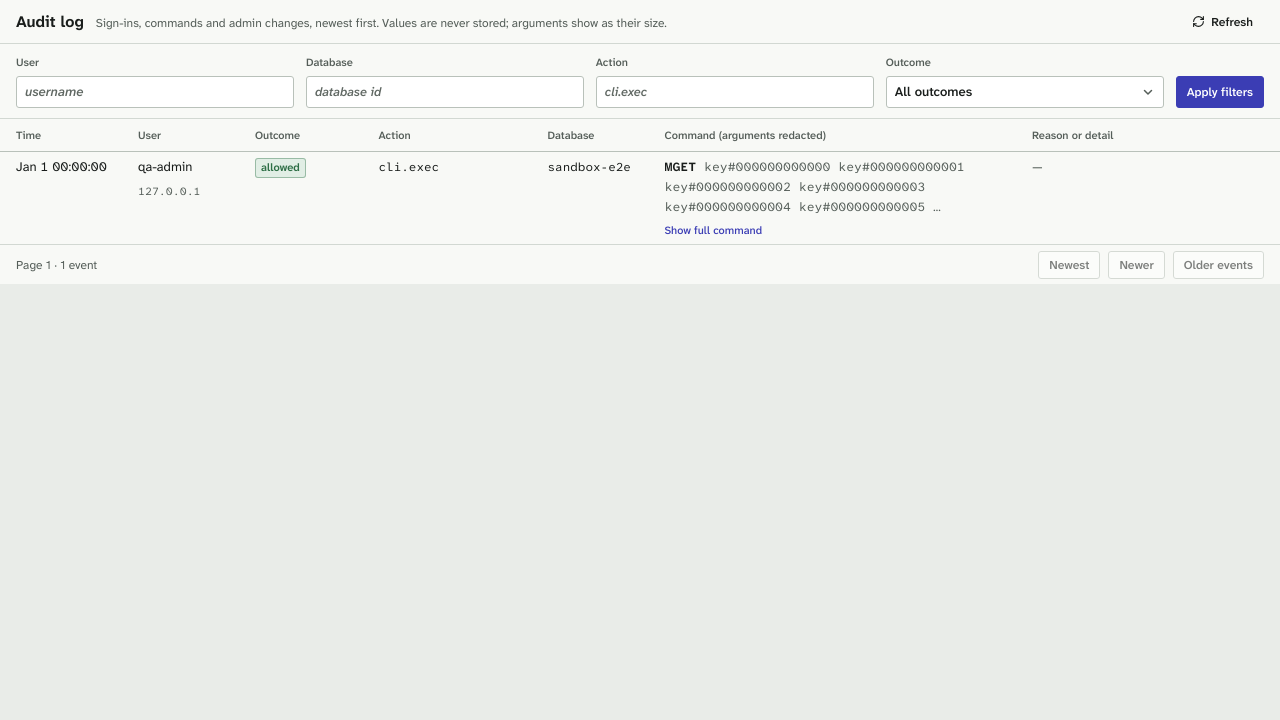
Test case: expands a long redacted command without replacing or losing its arguments
Step 1. Click the button "Show full command" → [713, 230], box [664, 221, 762, 239]
(page scrolled)
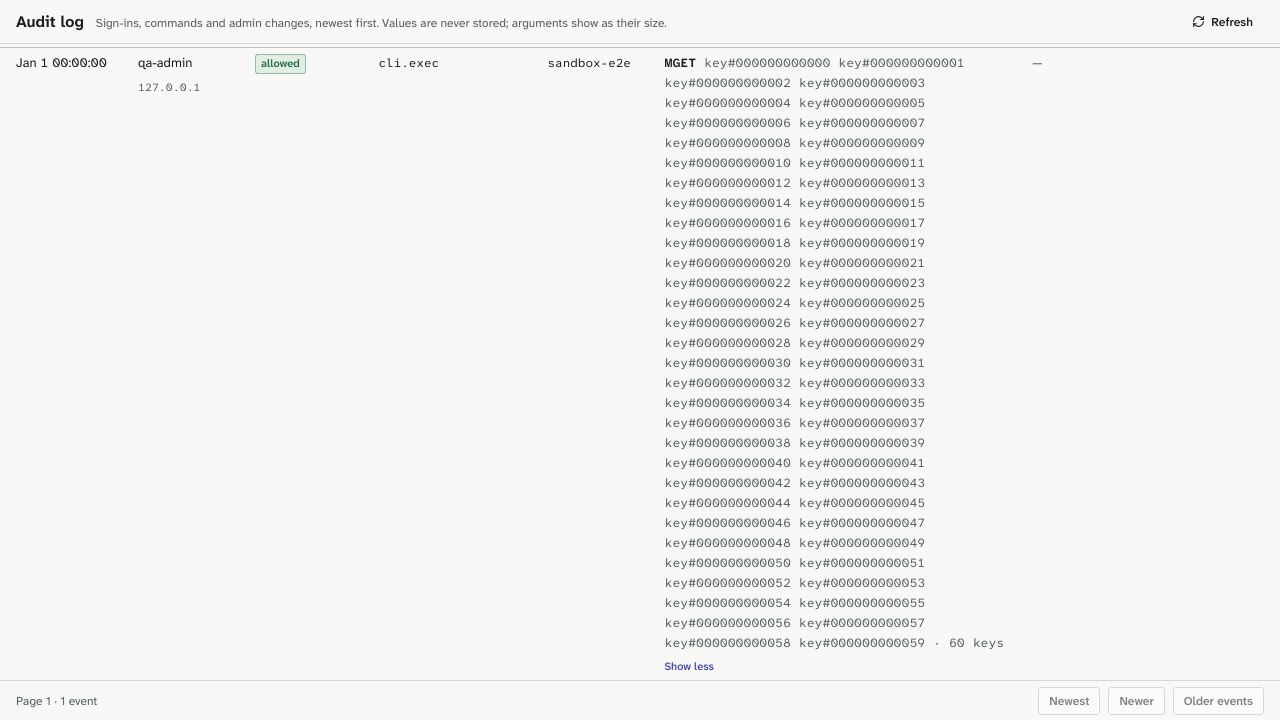
Result: the button named "Show full command" is expanded
Step 2. Click the button named "Show full command" → [689, 666], box [664, 657, 714, 675]
(page scrolled)
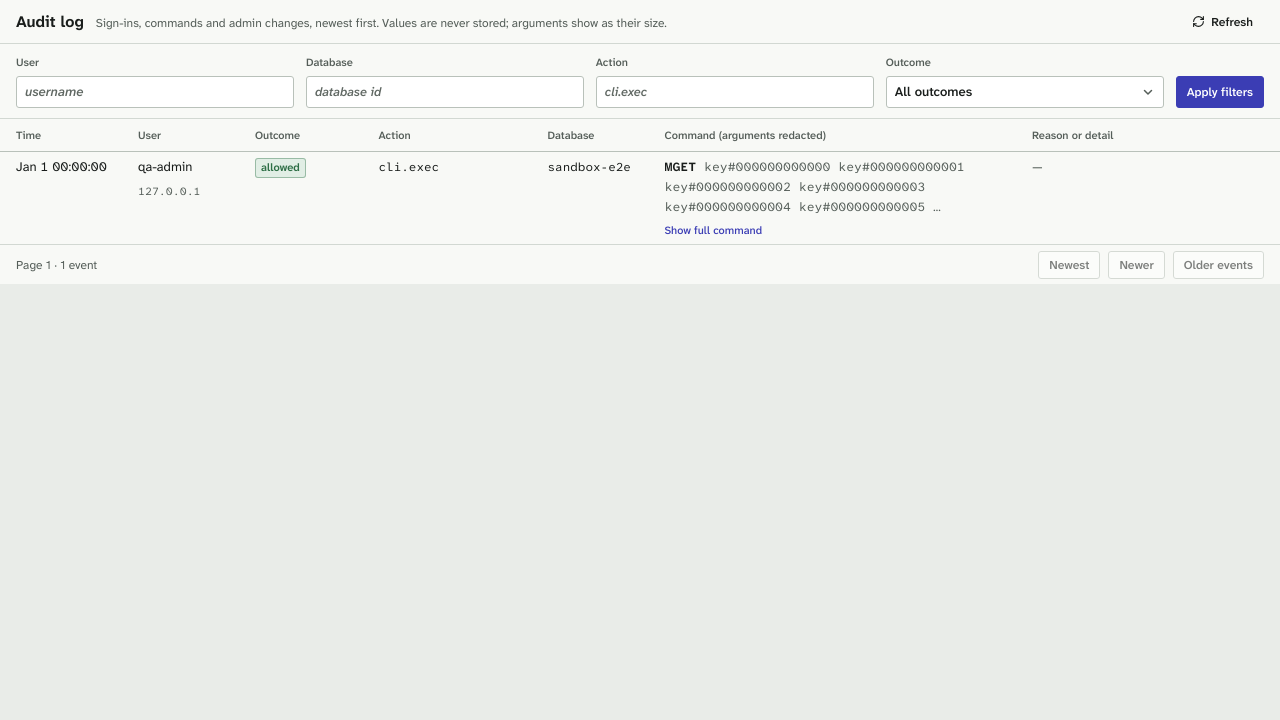
Result: the button "Show full command" is collapsed at [664, 221, 762, 239]
